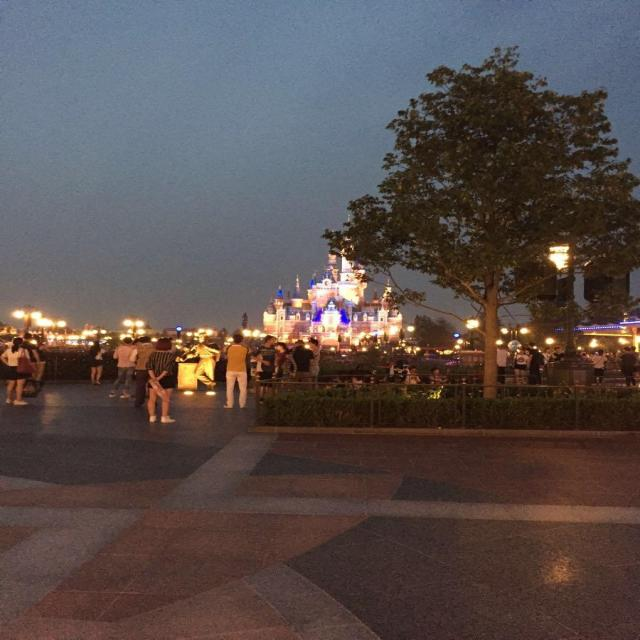non-fight: (220, 332, 254, 411), (143, 336, 171, 424)
